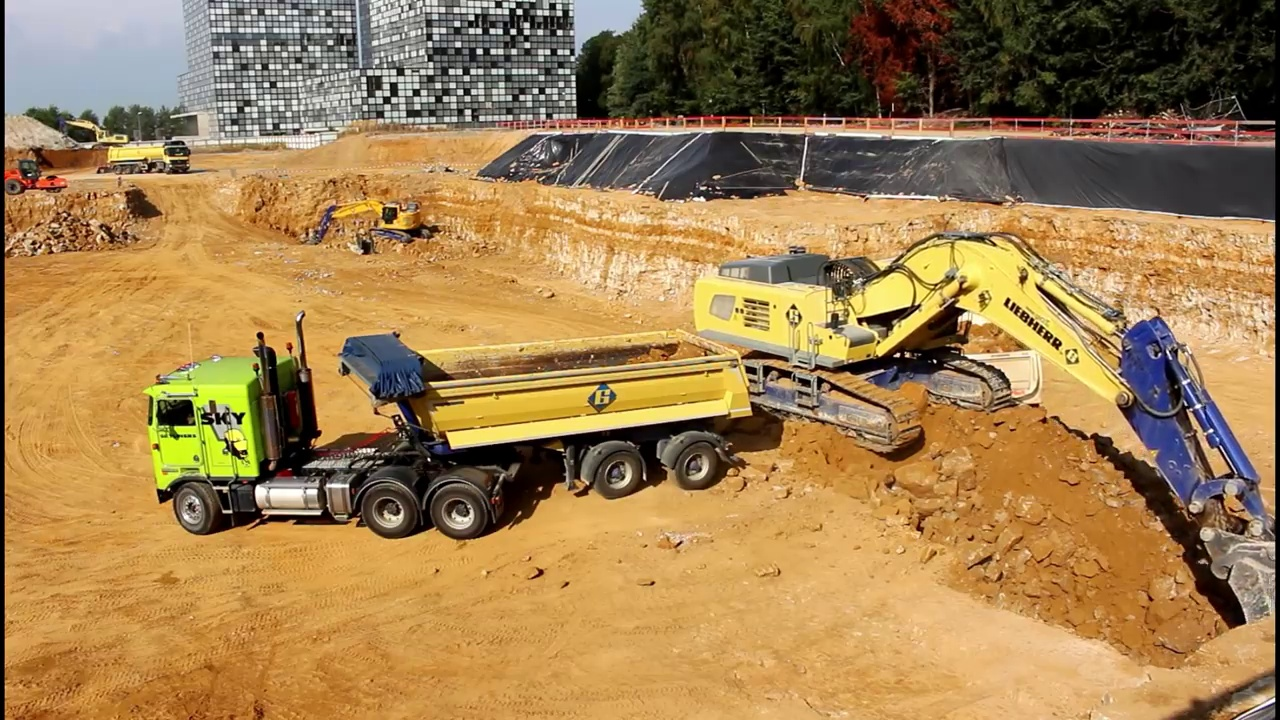compactor: (5, 155, 71, 196)
excavator: (688, 228, 1280, 656), (301, 192, 435, 255), (63, 113, 128, 152)
truck: (139, 309, 757, 545), (885, 234, 1061, 424), (105, 138, 195, 178)
